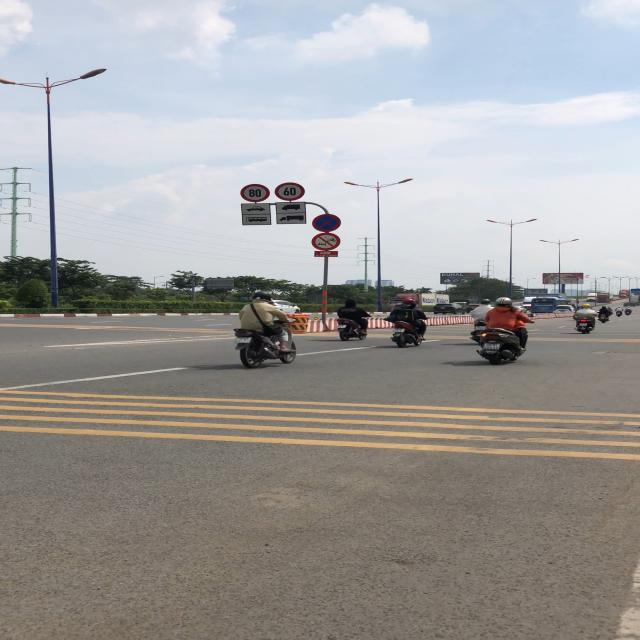Bien bao cam dung xe va do xe: (313, 214, 342, 232)
Bien bao toc do toi da cho phep: (240, 183, 271, 204), (274, 181, 306, 201)
